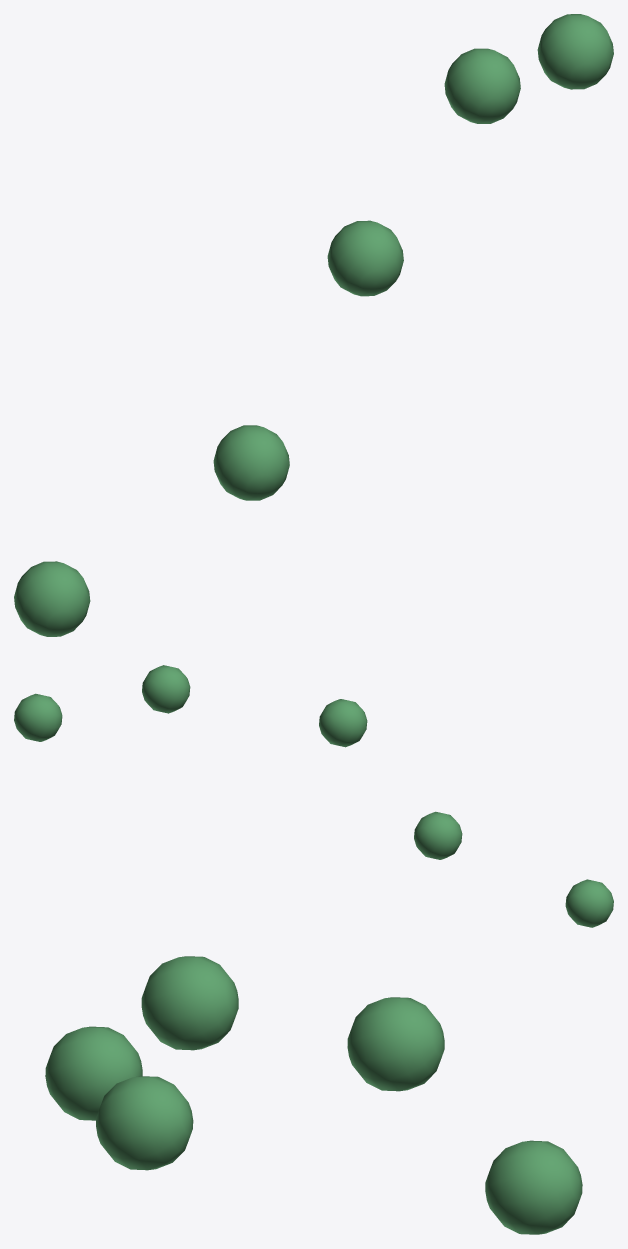
3 renders of one model, top to bottom at view 1: azimuth 30°, elevation 25°; view 2: azimuth 150°, elevation 25°; view 3: azimuth 270°, elevation 25°, orthographic. The views are drawn at different scales.
Visible parts, largest first — view 1: 左侧锁骨下淋巴结; view 2: 左侧锁骨下淋巴结; view 3: 左侧锁骨下淋巴结.
Part boxes in pixels (left/top/right/bottom): 左侧锁骨下淋巴结: left=14, top=14, right=613, bottom=636; 左侧锁骨下淋巴结: left=14, top=665, right=613, bottom=927; 左侧锁骨下淋巴结: left=45, top=956, right=582, bottom=1234.
Size of the model in its own units: 0.0438 by 0.0198 by 0.0211.
